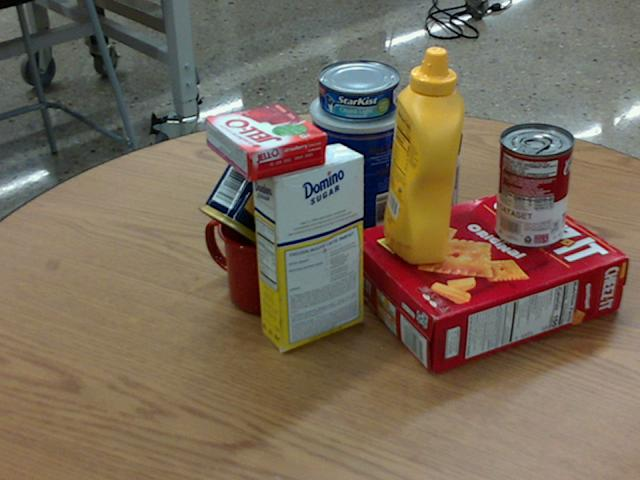cracker_box: (349, 185, 626, 374)
gelatin_box: (204, 102, 326, 181)
large_marker: (439, 129, 460, 233)
master_chef_can: (312, 86, 409, 243)
mug: (204, 199, 310, 313)
mustard_bottle: (383, 46, 463, 263)
potted_meat_can: (198, 133, 324, 260)
sugar_box: (250, 143, 363, 350)
tomato_soup_can: (495, 121, 574, 247)
tuna_fish_can: (318, 59, 400, 119)
